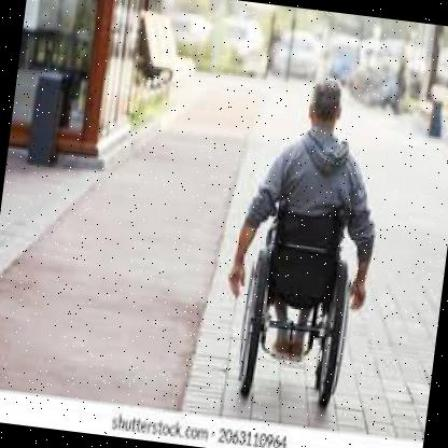wheel: (219, 73, 392, 414)
